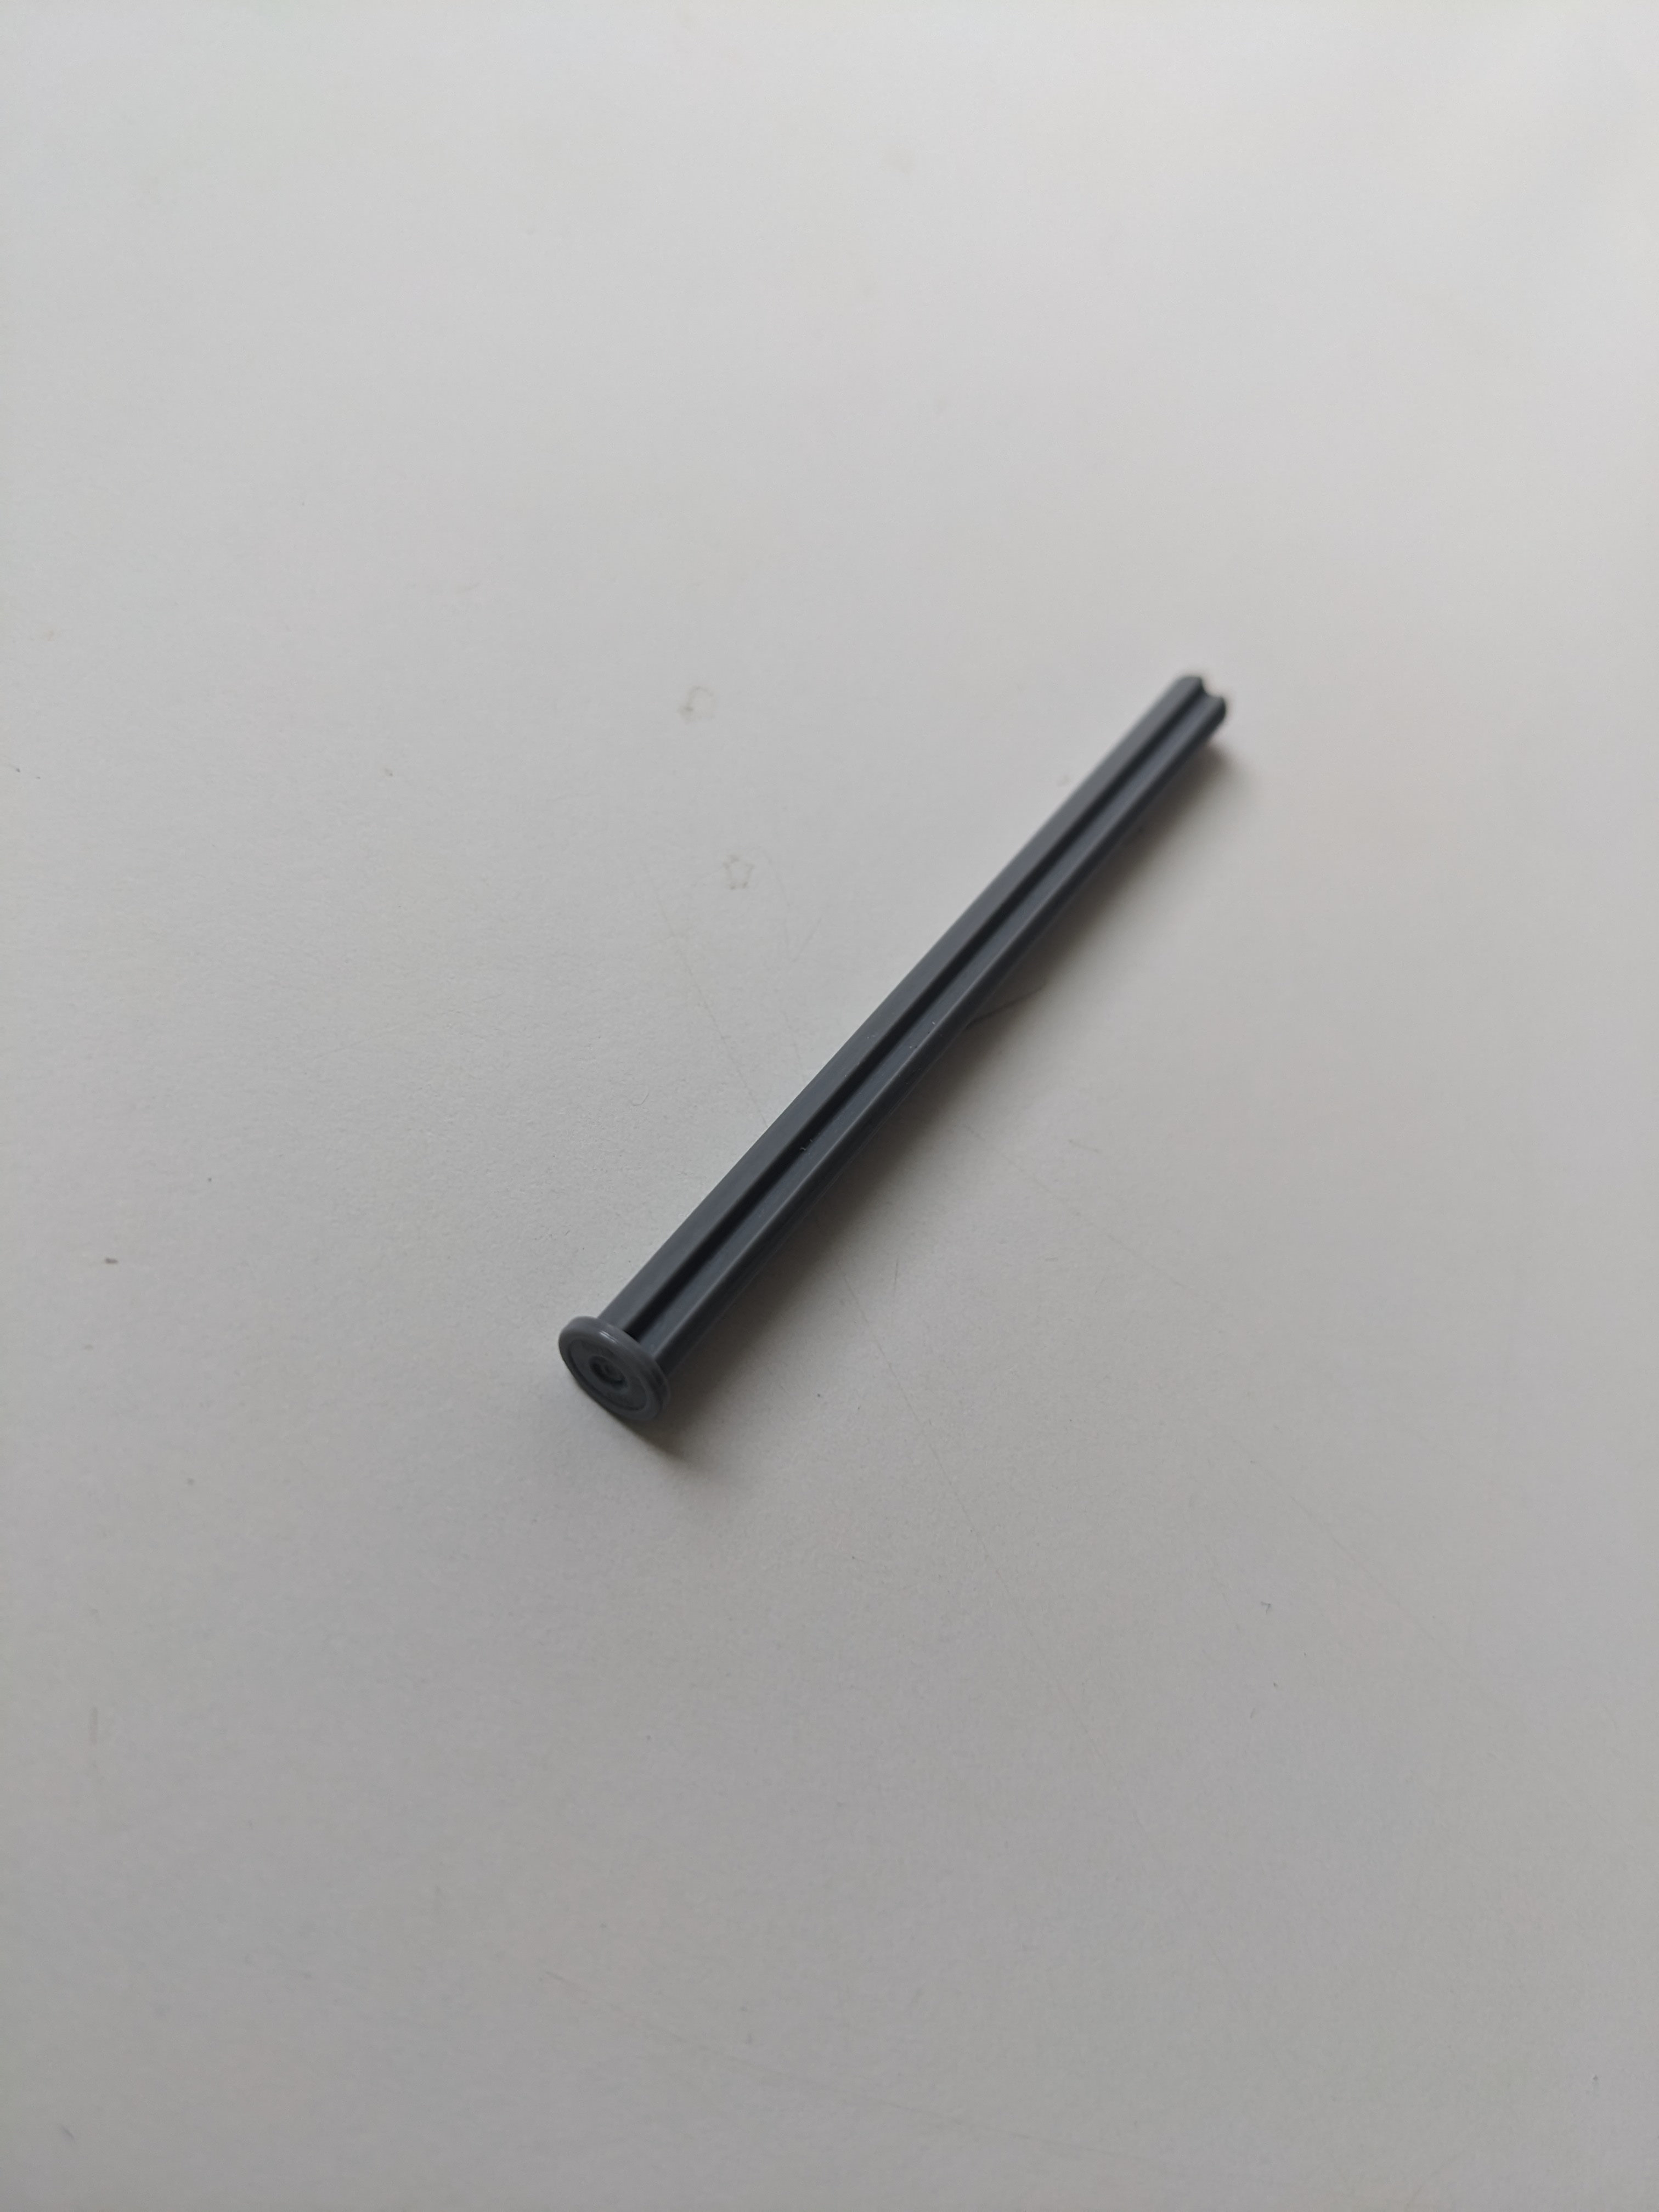Grau_lang: (532, 655, 1248, 1456)
